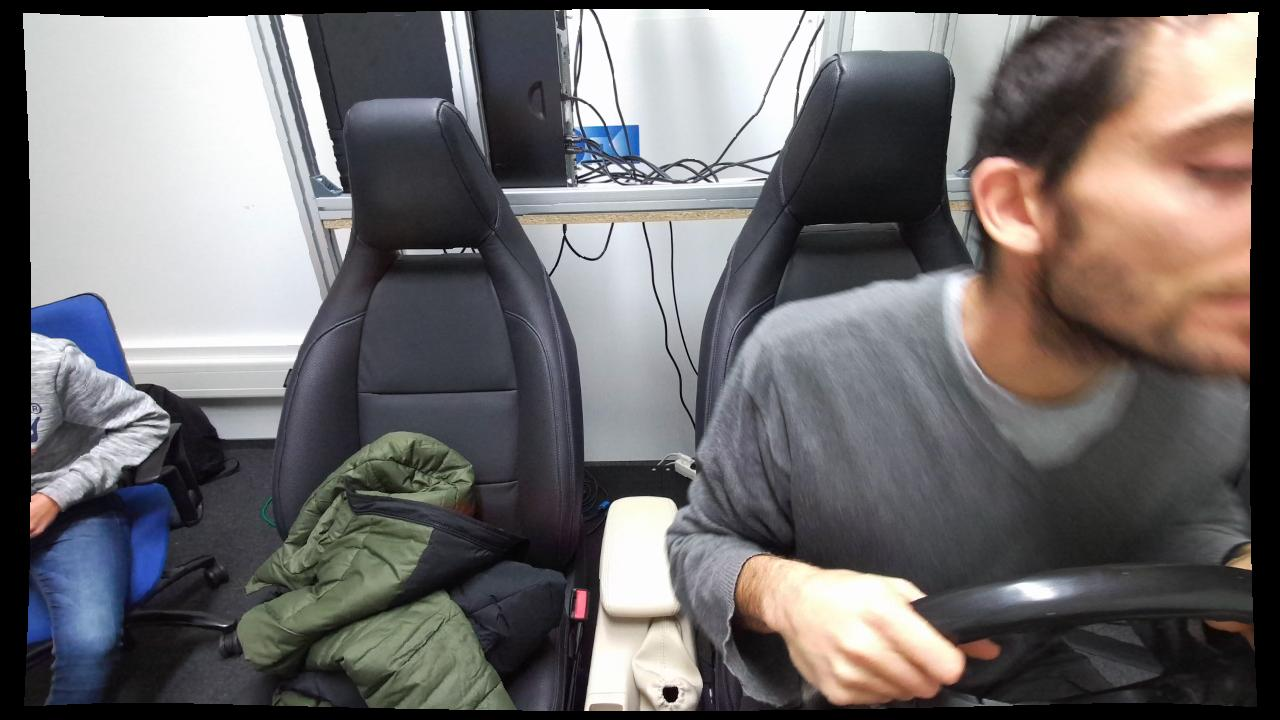Distracted: (661, 13, 1256, 701)
